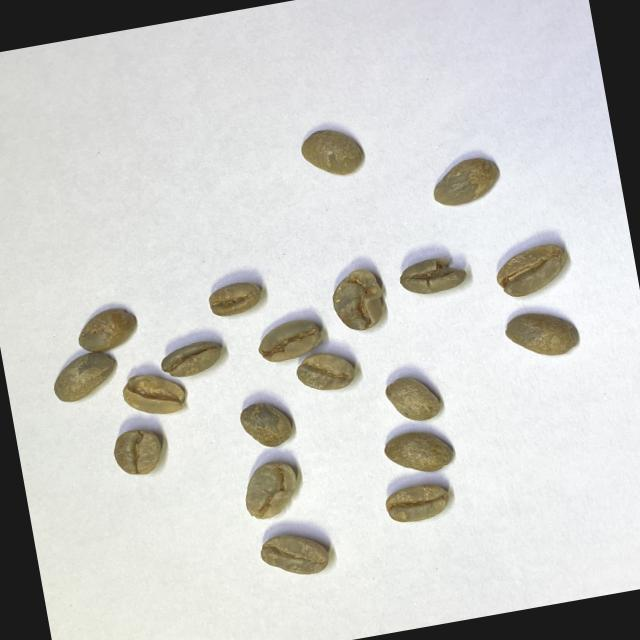bad: (326, 264, 391, 335), (238, 455, 304, 524), (119, 365, 189, 420), (396, 250, 469, 300), (254, 316, 325, 365), (156, 338, 224, 380), (203, 278, 266, 320)
good: (500, 302, 582, 364), (490, 241, 574, 301), (297, 122, 367, 184), (257, 525, 331, 583), (47, 346, 121, 404), (380, 424, 456, 480), (428, 154, 504, 210), (381, 477, 454, 528), (72, 303, 142, 356), (382, 369, 444, 426), (106, 424, 166, 482), (235, 396, 296, 452), (292, 346, 358, 396)
